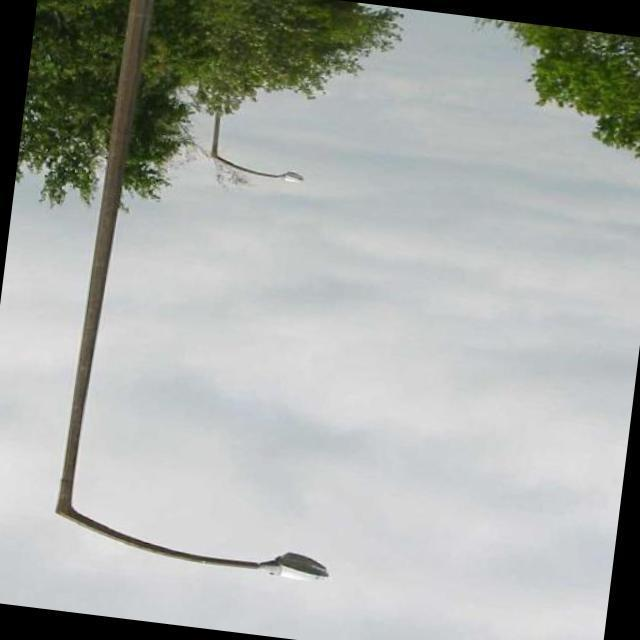off: (50, 505, 316, 594)
